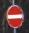No entry: (6, 5, 24, 28)
